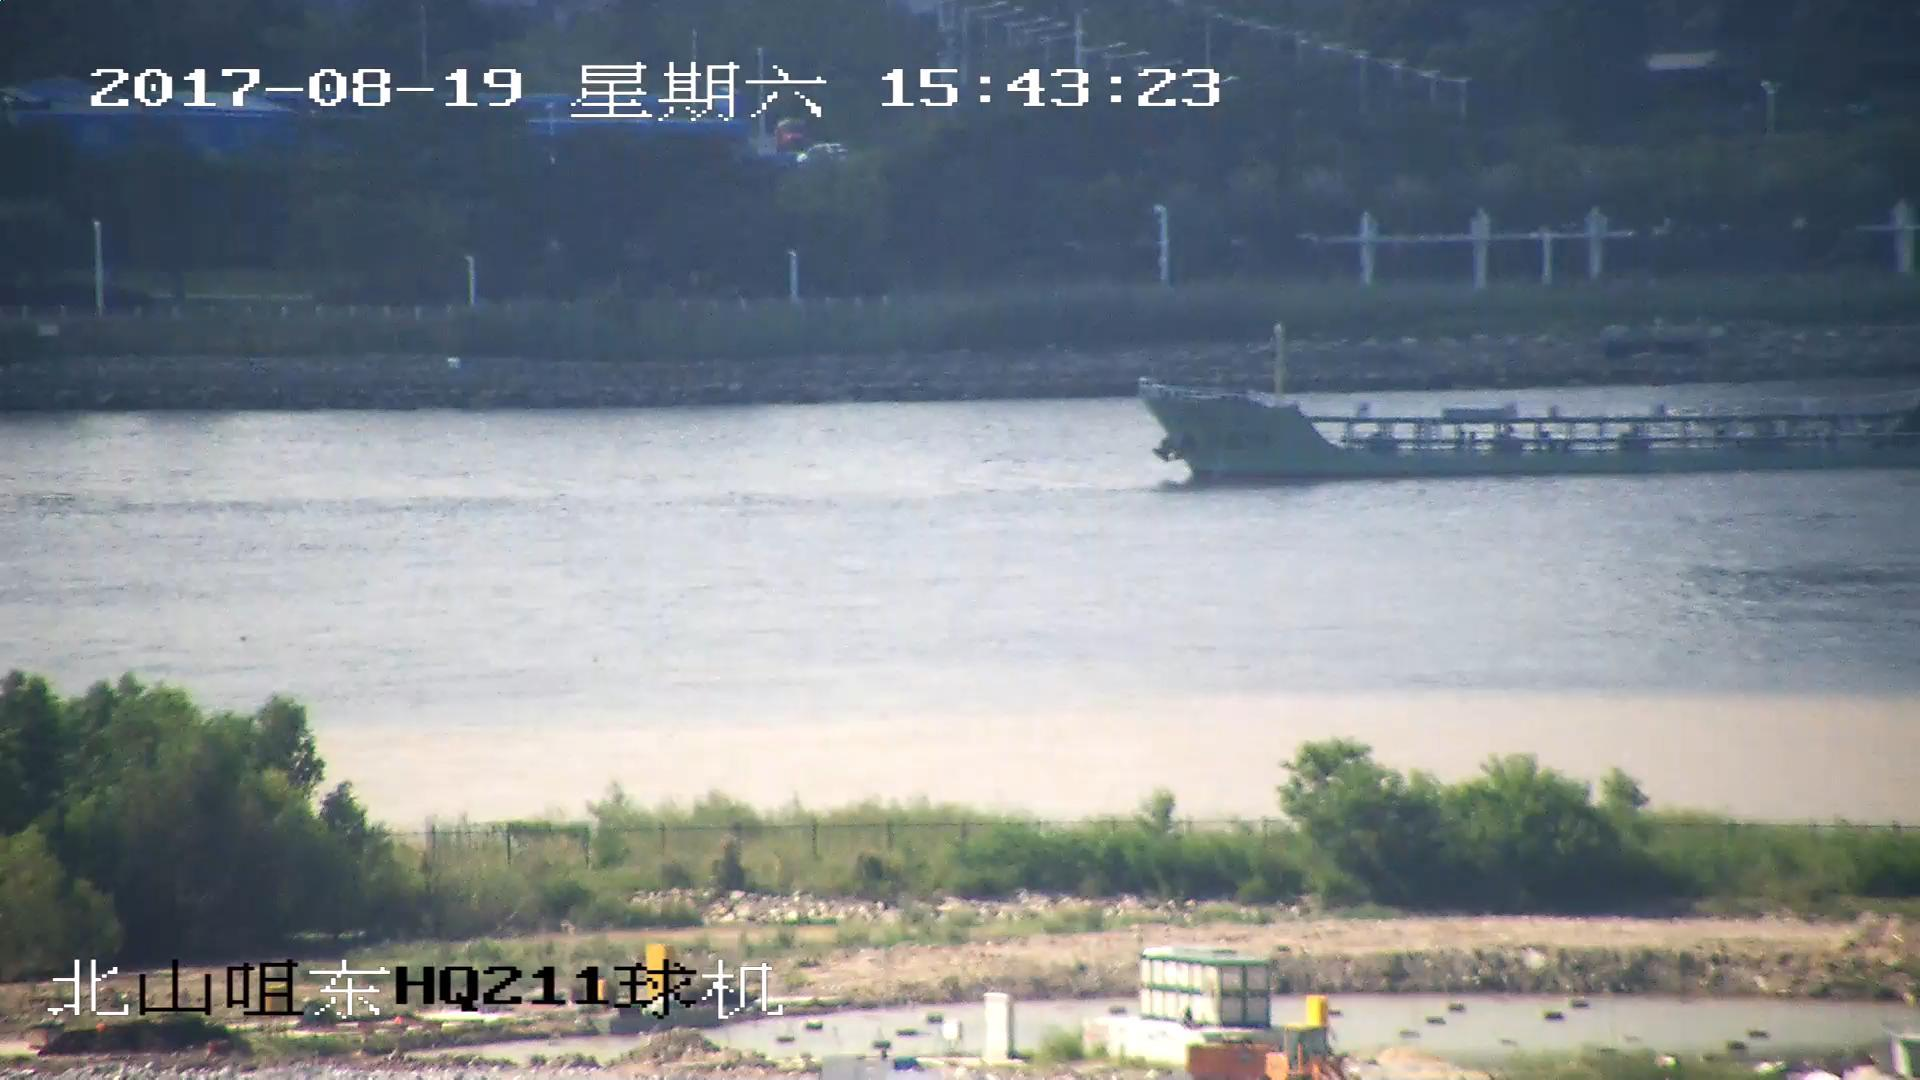Ship: (1146, 327, 1920, 484)
